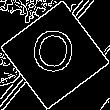O_S: (30, 26, 80, 84)
